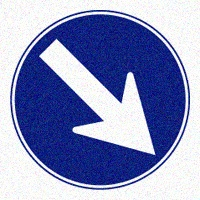Direction_sign: (8, 6, 192, 194)
